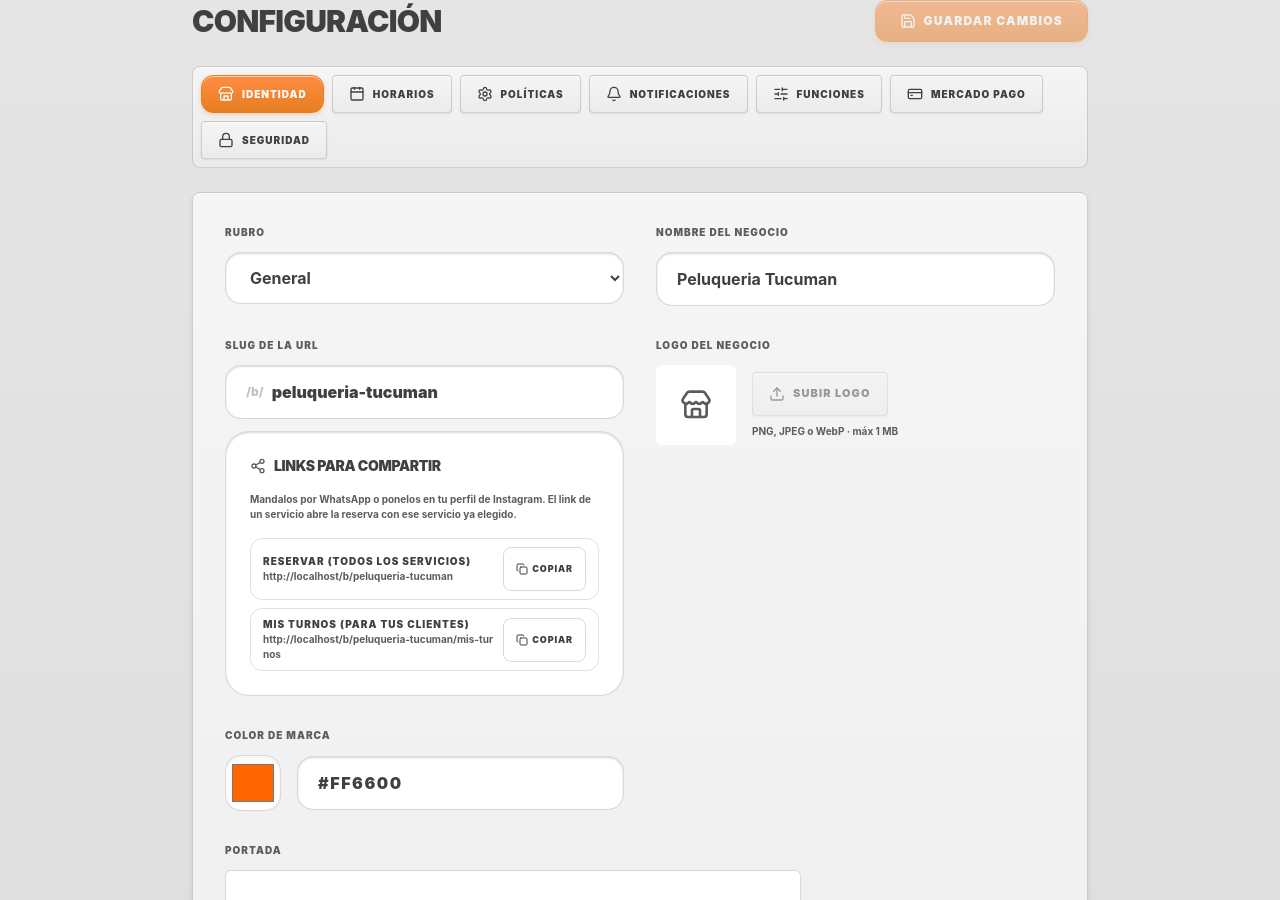
Test: Settings - solo lectura por pestana › Notificaciones y Horarios se pueden editar aunque no guardar
This screenshot has width=1280, height=900.
What coordinates should you click on to do the following:
click the button "Notificaciones"
I would click on:
 (668, 94)
Its box is [589,75,748,113].
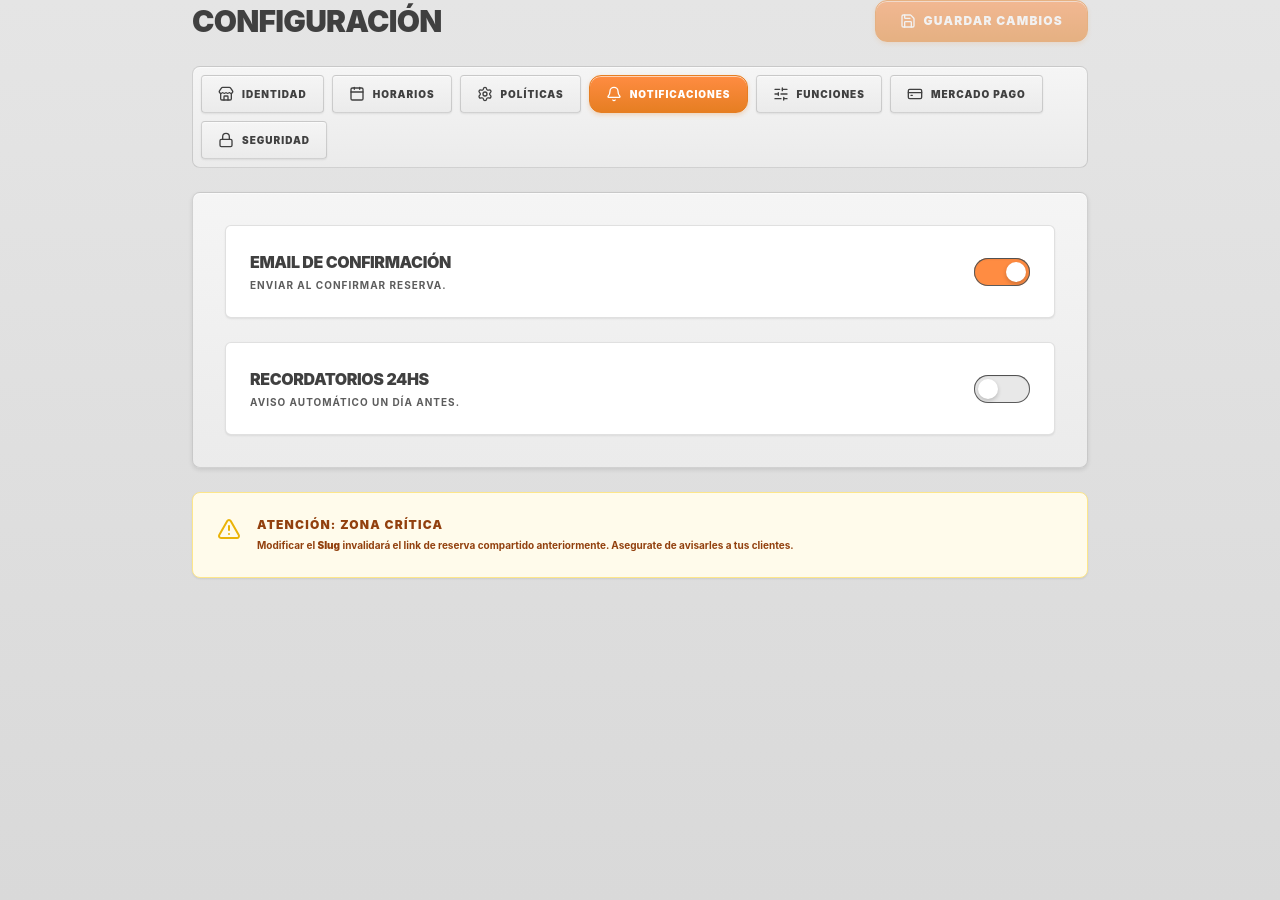
Result: the switch named "Email de Confirmación" is enabled at [974,258,1030,286]
Result: the switch named "Recordatorios 24hs" is enabled at [974,374,1030,402]
What coordinates should you click on to do the following:
click the button "Horarios"
I would click on:
 (392, 94)
Its box is [332,75,452,113].
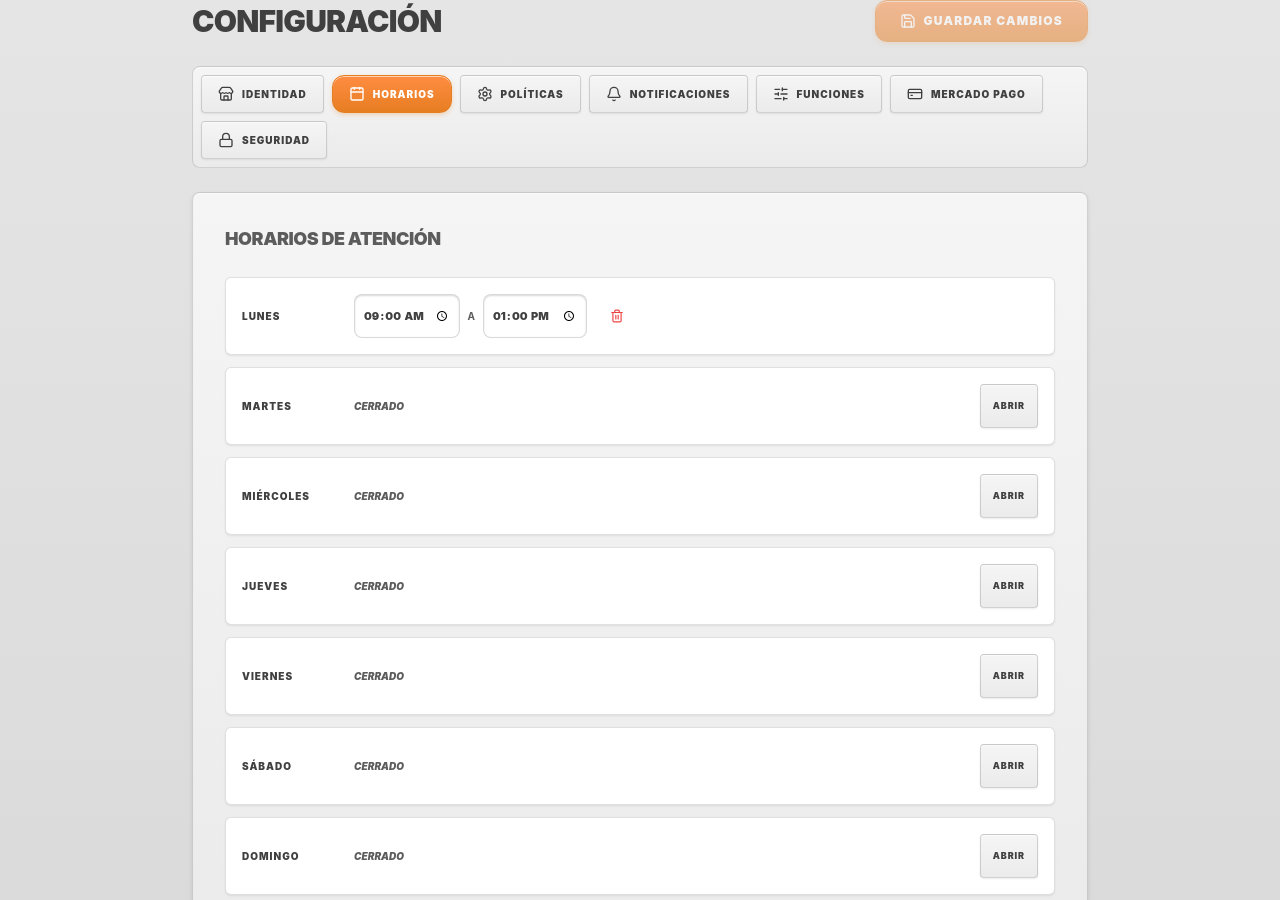
Result: the button with aria-label "Abrir Martes" is enabled at [980,384,1038,428]
